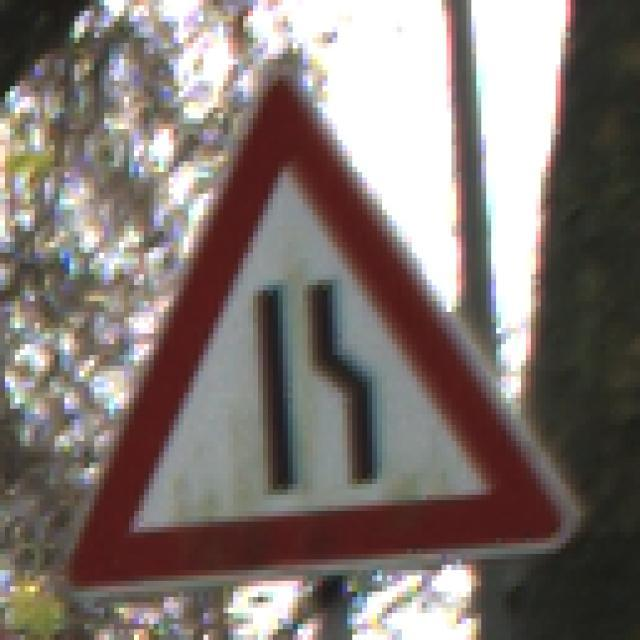narrow road ahead: (71, 76, 571, 594)
